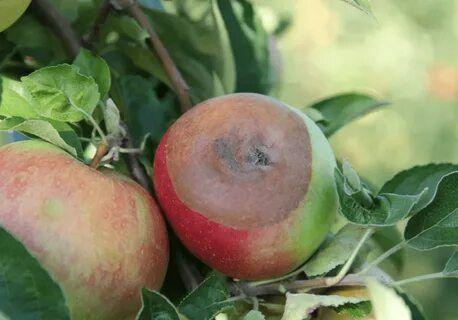Apple: (152, 93, 340, 280)
